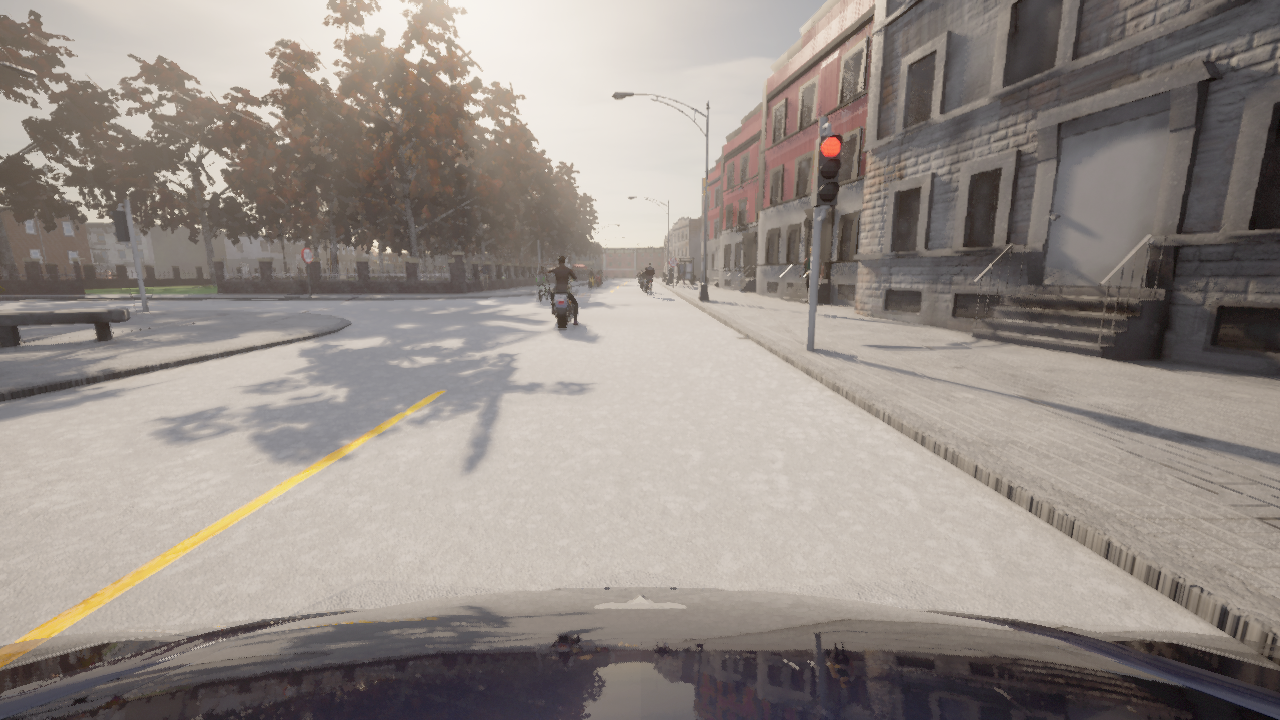cyclist: (0, 588, 1279, 719), (547, 273, 573, 329), (529, 274, 551, 303), (589, 274, 595, 288), (595, 274, 601, 286), (642, 279, 646, 291), (648, 281, 651, 296), (639, 275, 642, 284), (600, 275, 603, 284)
pedestrian: (799, 246, 822, 314), (480, 260, 489, 292), (669, 267, 672, 282)
